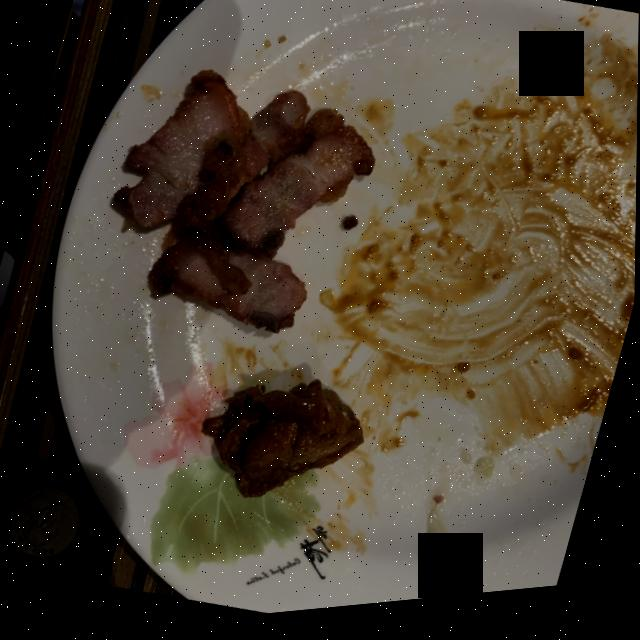coin: (12, 487, 83, 560)
creamy tofu: (204, 386, 365, 502)
red grilled pork: (114, 74, 375, 338)
